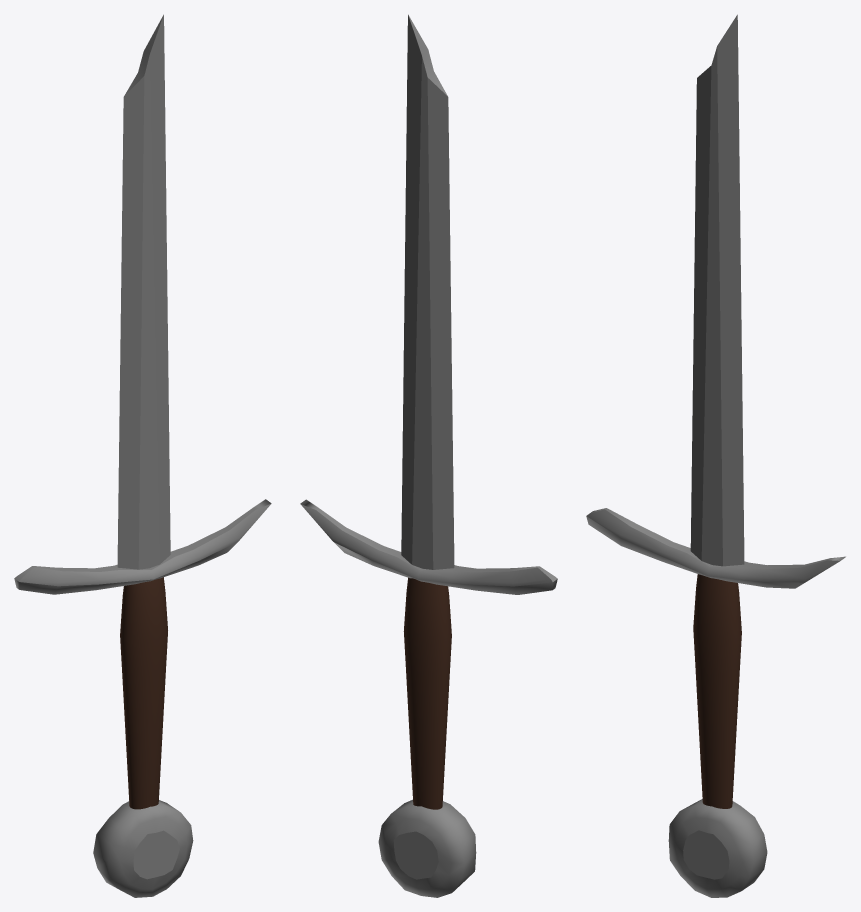
The model's file is broken_sword.gltf.
The picture shows the model from 3 angles, left to right: view 1: azimuth 30°, elevation 25°; view 2: azimuth 150°, elevation 25°; view 3: azimuth 330°, elevation 25°; orthographic projection.
Visible parts, largest first — view 1: Cylinder; view 2: Cylinder; view 3: Cylinder.
Part boxes in pixels (<box>): Cylinder: <box>14,14,271,897</box>; Cylinder: <box>300,14,557,897</box>; Cylinder: <box>586,14,845,897</box>.
Bounding box in the file's own units: 0.1963 × 0.6496 × 0.0334.
Materials: 1 (1 with a texture image).
